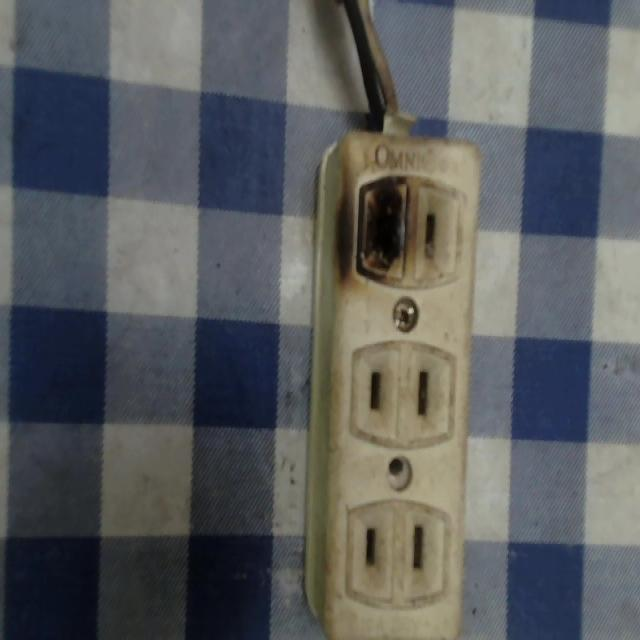-: (339, 164, 419, 293)
